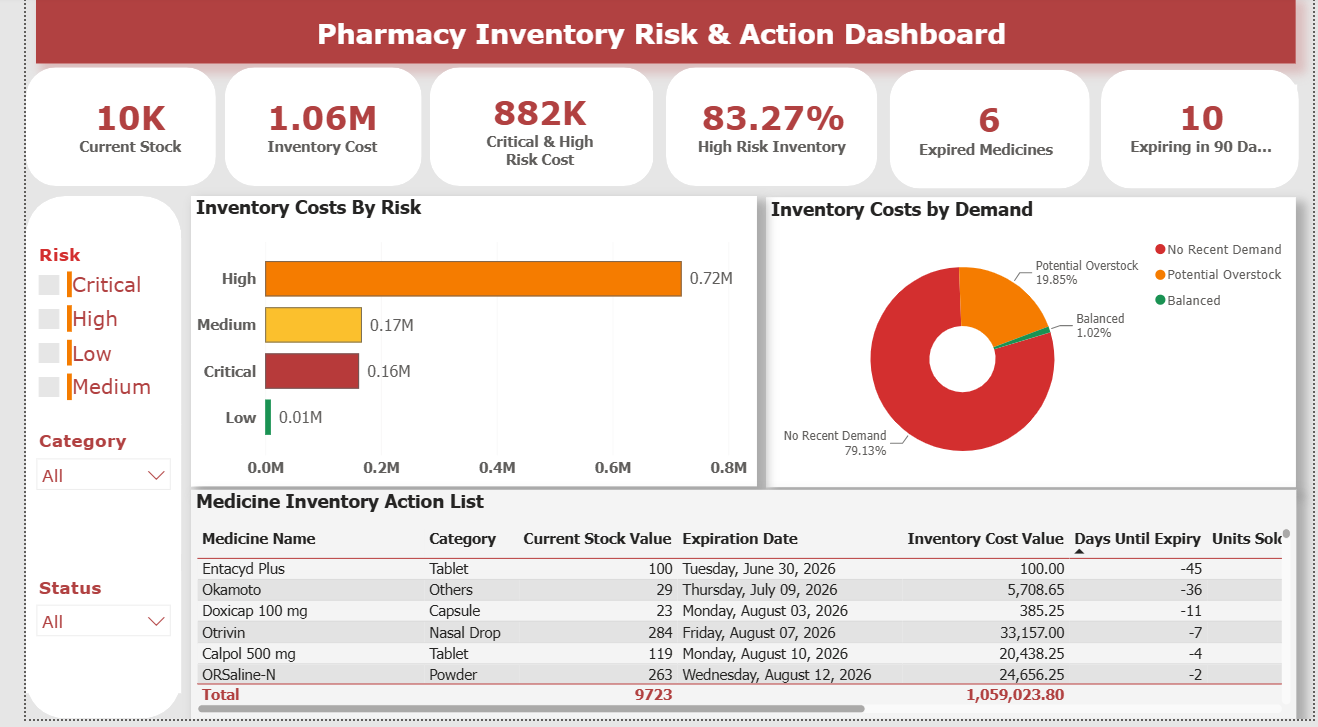

This screenshot's page, from the dashboard's own definition file:
{"tool":"powerbi","page":{"name":"Inventory Risk","canvas":[1280,720],"ordinal":2},"visuals":[{"type":"shape","box":[10,0,1253.9,67.2],"z":0},{"type":"textbox","box":[10,0,1253.9,67.2],"z":1000},{"type":"shape","box":[0,199,154.3,520],"z":2000},{"type":"shape","box":[0,232.6,154.3,194.1],"z":3000},{"type":"shape","title":"Risk","box":[0,413,154.3,141.8],"z":4000},{"type":"shape","box":[0,554.8,154.3,130.6],"z":5000},{"type":"shape","box":[164.2,199,563.5,289.8],"z":6000},{"type":"shape","box":[736.4,200.3,527.4,289.8],"z":7000},{"type":"shape","box":[164.2,501.3,1099.7,218.9],"z":8000},{"type":"shape","box":[0,70.9,189.1,118.2],"z":9000},{"type":"shape","box":[197.8,70.9,196,118.2],"z":10000},{"type":"slicer","fields":{"Values":["MedicineInventory.Category"]},"box":[0,426.7,154.3,128.1],"z":11000},{"type":"slicer","fields":{"Values":["MedicineInventory.RiskPriority"]},"box":[0,241.3,154.3,185.3],"z":12000},{"type":"slicer","fields":{"Values":["MedicineInventory.InventoryStatus"]},"box":[0,572.2,154.3,121.9],"z":13000},{"type":"shape","box":[401.8,70.9,222.7,118.2],"z":14000},{"type":"shape","box":[636.9,70.9,210.2,118.2],"z":15000},{"type":"shape","box":[859.6,73.4,199,118.2],"z":16000},{"type":"shape","box":[1069.8,73.4,197,118.2],"z":17000},{"type":"cardVisual","title":"Current Stock","fields":{"Data":["KPI Measures.Current Stock Units"]},"box":[18.7,83.3,170.4,93.3],"z":18000},{"type":"cardVisual","title":"Current Stock","fields":{"Data":["KPI Measures.Inventory Cost Value"]},"box":[206.5,83.3,177.9,93.3],"z":19000},{"type":"cardVisual","title":"Current Stock","fields":{"Data":["KPI Measures.Critical and High Risk Cost"]},"box":[418,75.9,187.8,115.7],"z":20000},{"type":"cardVisual","title":"Current Stock","fields":{"Data":["KPI Measures.High Risk Inventory Percentage"]},"box":[640,83.5,210.2,93.3],"z":21000},{"type":"cardVisual","title":"Current Stock","fields":{"Data":["KPI Measures.Expired Medicines"]},"box":[859.8,86.3,199,93.2],"z":22000},{"type":"cardVisual","title":"Current Stock","fields":{"Data":["KPI Measures.Expiring Within 90 Days"]},"box":[1069.8,83.3,200,93.3],"z":23000},{"type":"clusteredBarChart","title":"Inventory Costs By Risk","fields":{"Category":["MedicineInventory.RiskPriority"],"Y":["Sum(MedicineInventory.InventoryCostValue)"]},"box":[164.2,199,563.5,288.6],"z":24000},{"type":"donutChart","title":"Inventory Costs by Demand","fields":{"Category":["MedicineInventory.StockDemandStatus"],"Y":["Sum(MedicineInventory.InventoryCostValue)"]},"box":[736.4,200.3,527.4,288.6],"z":25000},{"type":"tableEx","title":"Medicine Inventory Action List","fields":{"Values":["MedicineInventory.MedicineName","MedicineInventory.Category","Sum(MedicineInventory.CurrentStock)","MedicineInventory.ExpiryDate","Sum(MedicineInventory.InventoryCostValue)","MedicineInventory.DaysUntilExpiry","MedicineInventory.UnitsSoldLast90Days","MedicineInventory.RiskPriority","MedicineInventory.RecommendedAction"]},"box":[164.2,491.4,1099.7,227.6],"z":26000}]}

Visuals, with their boxes in screenshot pixels (x1, y1, x2, y2), scaled from the page's 1280x720 canvas onto the 1318x727 screenshot:
shape: box=[10, 0, 1301, 68]
textbox: box=[10, 0, 1301, 68]
shape: box=[0, 201, 159, 726]
shape: box=[0, 235, 159, 431]
"Risk" shape: box=[0, 417, 159, 560]
shape: box=[0, 560, 159, 692]
shape: box=[169, 201, 749, 494]
shape: box=[758, 202, 1301, 495]
shape: box=[169, 506, 1301, 726]
shape: box=[0, 72, 195, 191]
shape: box=[204, 72, 405, 191]
slicer - MedicineInventory.Category: box=[0, 431, 159, 560]
slicer - MedicineInventory.RiskPriority: box=[0, 244, 159, 431]
slicer - MedicineInventory.InventoryStatus: box=[0, 578, 159, 701]
shape: box=[414, 72, 643, 191]
shape: box=[656, 72, 872, 191]
shape: box=[885, 74, 1090, 193]
shape: box=[1102, 74, 1304, 193]
"Current Stock" cardVisual: box=[19, 84, 195, 178]
"Current Stock" cardVisual: box=[213, 84, 396, 178]
"Current Stock" cardVisual: box=[430, 77, 624, 193]
"Current Stock" cardVisual: box=[659, 84, 875, 179]
"Current Stock" cardVisual: box=[885, 87, 1090, 181]
"Current Stock" cardVisual: box=[1102, 84, 1307, 178]
"Inventory Costs By Risk" clusteredBarChart: box=[169, 201, 749, 492]
"Inventory Costs by Demand" donutChart: box=[758, 202, 1301, 494]
"Medicine Inventory Action List" tableEx: box=[169, 496, 1301, 726]
